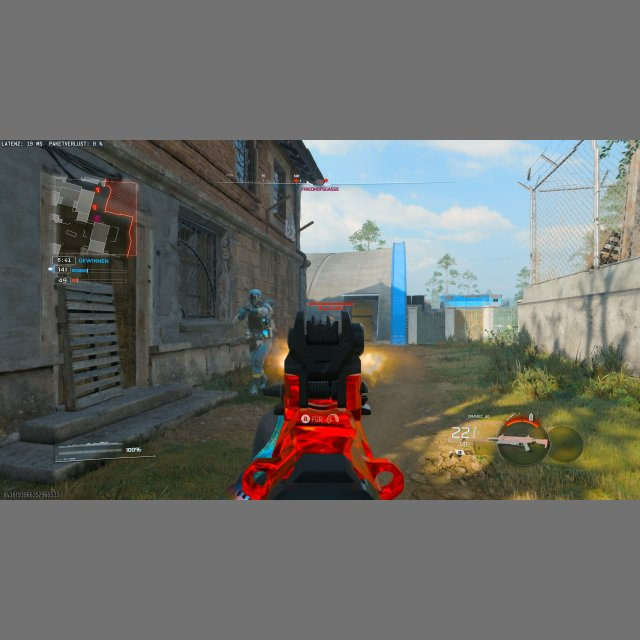head: (248, 289, 261, 305)
player: (236, 289, 273, 395), (600, 231, 622, 266)
